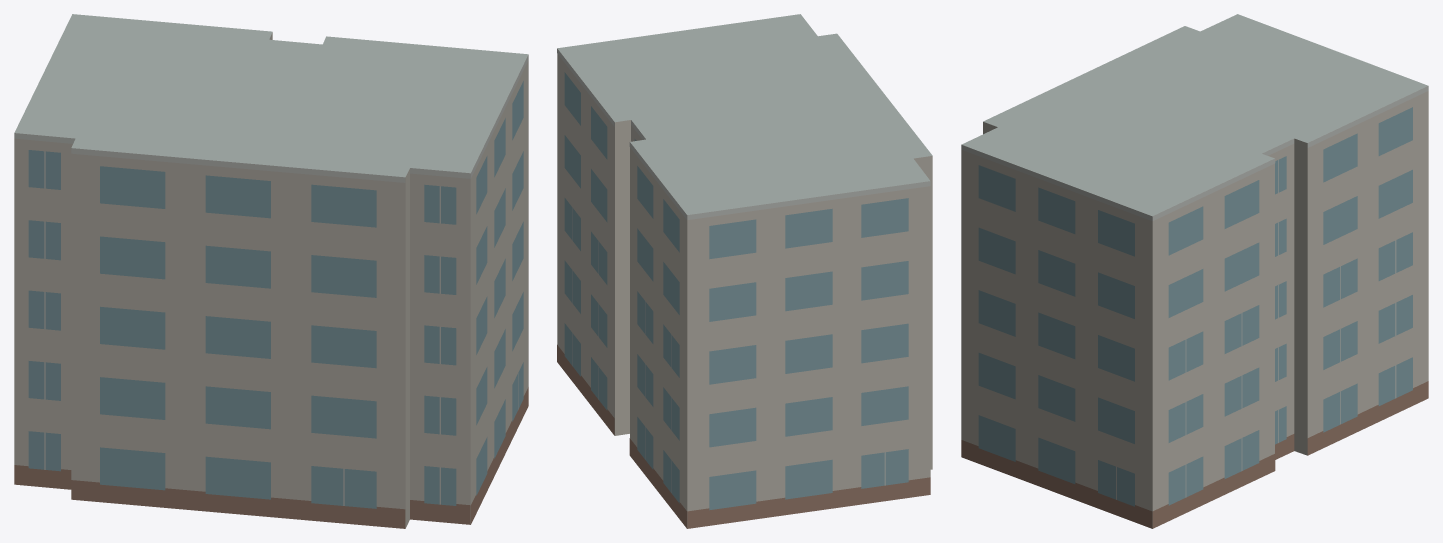
File: survey-upis-32722082.glb
The picture shows the model from 3 angles, left to right: view 1: azimuth 30°, elevation 25°; view 2: azimuth 150°, elevation 25°; view 3: azimuth 270°, elevation 25°; orthographic projection. The views are drawn at different scales.
Parts seen in each view (by area): view 1: survey-upis-32722082.tmp; view 2: survey-upis-32722082.tmp; view 3: survey-upis-32722082.tmp.
Boxes of the visible parts, bbox=[...] form: survey-upis-32722082.tmp: bbox=[14, 14, 528, 528]; survey-upis-32722082.tmp: bbox=[557, 14, 932, 528]; survey-upis-32722082.tmp: bbox=[961, 14, 1428, 528].
Bounding box in the file's own units: 21.11 × 15.2 × 20.6.
